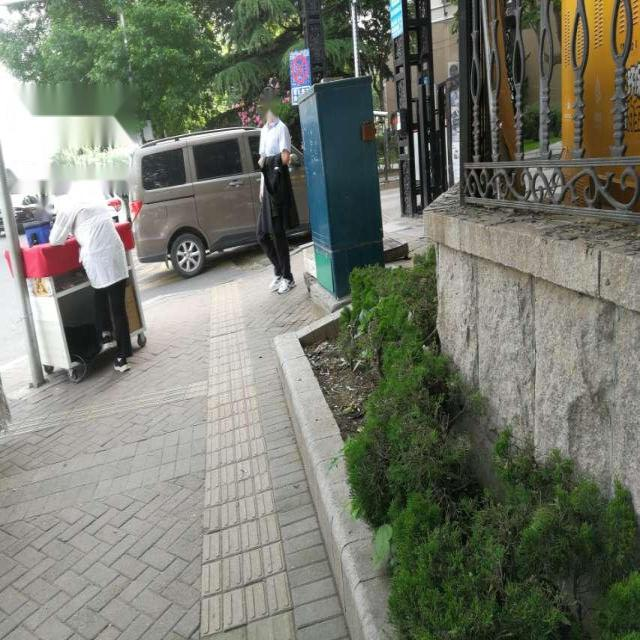car: (3, 218, 149, 381)
fixed_stall: (3, 197, 147, 264)
